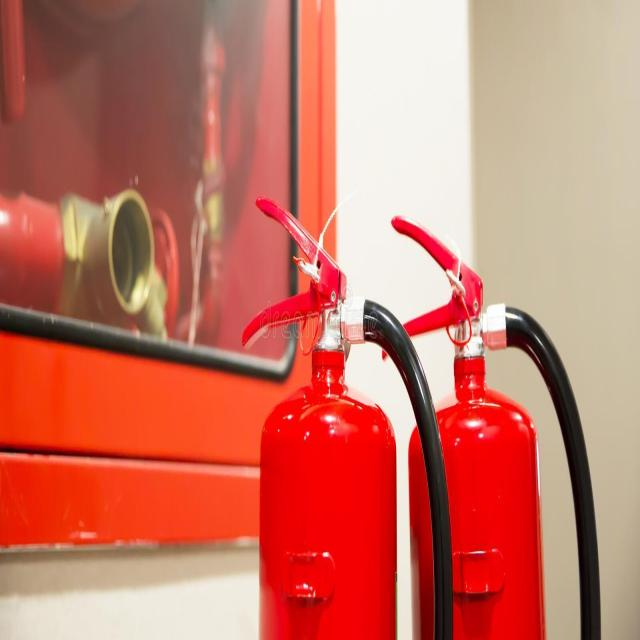fire_extinguisher: (378, 206, 606, 639), (239, 190, 457, 639)
